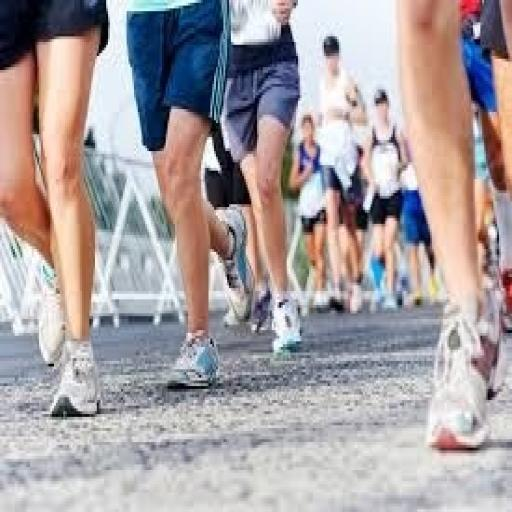running: (123, 0, 255, 394), (0, 0, 111, 422), (218, 0, 307, 358)
